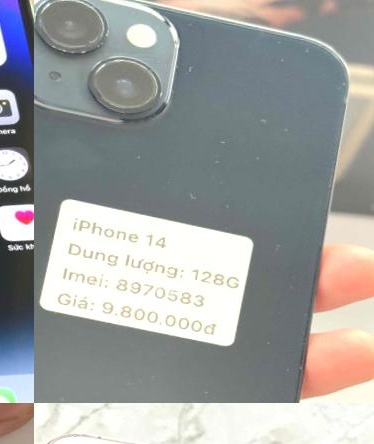scratch: (77, 49, 174, 153), (34, 0, 128, 63), (170, 189, 240, 216), (328, 76, 367, 121), (202, 130, 235, 178), (253, 112, 298, 141), (262, 235, 291, 273), (194, 380, 226, 403), (296, 43, 320, 67), (184, 57, 202, 86), (251, 148, 273, 168), (277, 59, 297, 81)
